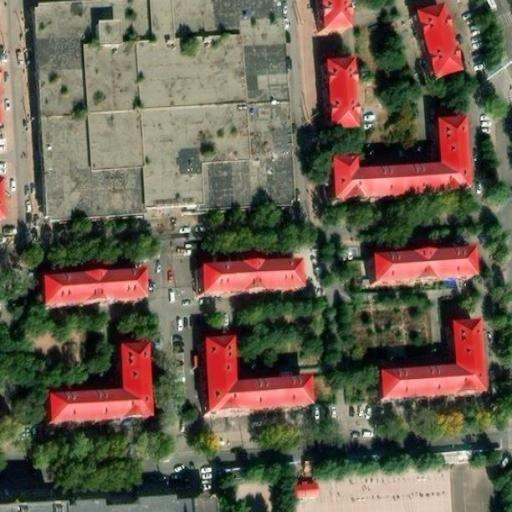building: (28, 1, 290, 225), (329, 127, 466, 210), (200, 349, 307, 422), (46, 356, 150, 431), (377, 334, 477, 411), (39, 279, 142, 318), (369, 261, 474, 295), (198, 271, 300, 305), (415, 18, 458, 88), (319, 70, 356, 142), (45, 498, 179, 512), (289, 474, 318, 497)
